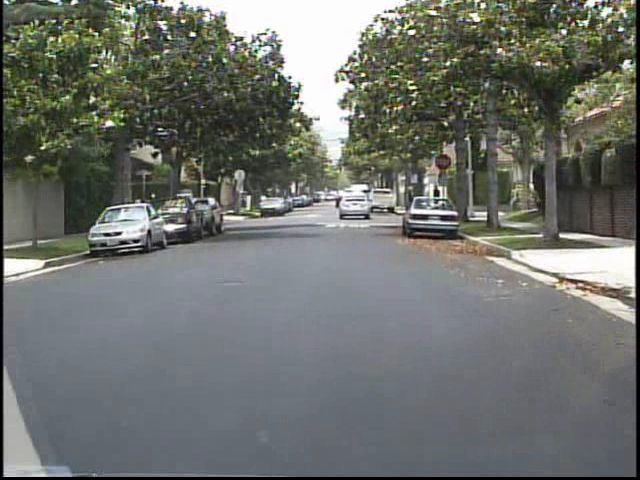person: (132, 191, 149, 229), (427, 182, 444, 213)
